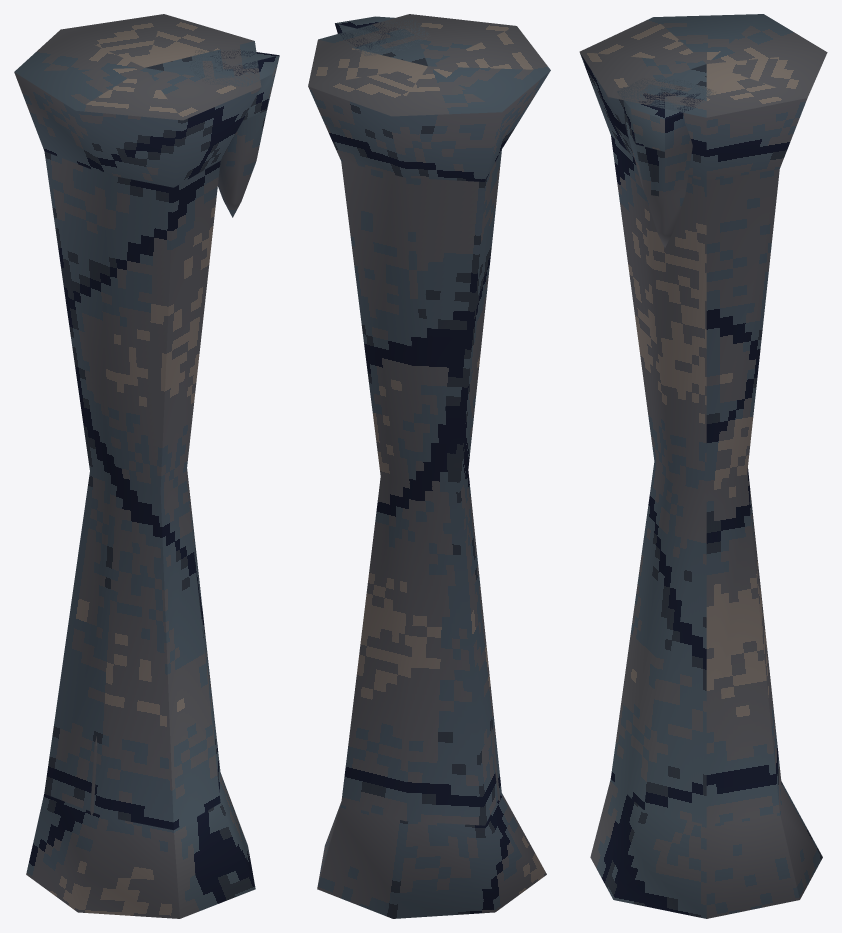
File: cave.spike__column.glb
3 renders of one model, left to right at view 1: azimuth 30°, elevation 25°; view 2: azimuth 150°, elevation 25°; view 3: azimuth 270°, elevation 25°, orthographic.
Parts seen in each view (by area): view 1: kit_dripstone; view 2: kit_dripstone; view 3: kit_dripstone.
Boxes of the visible parts, left/top/right/bottom form: kit_dripstone: left=14, top=14, right=279, bottom=918; kit_dripstone: left=308, top=14, right=550, bottom=918; kit_dripstone: left=579, top=14, right=827, bottom=918.
Bounding box in the file's own units: 1.41 × 5 × 1.4.
Materials: 1 (1 with a texture image).
